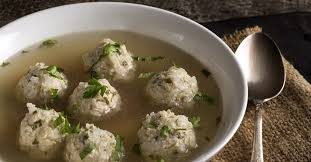bakso: (9, 22, 209, 162)
